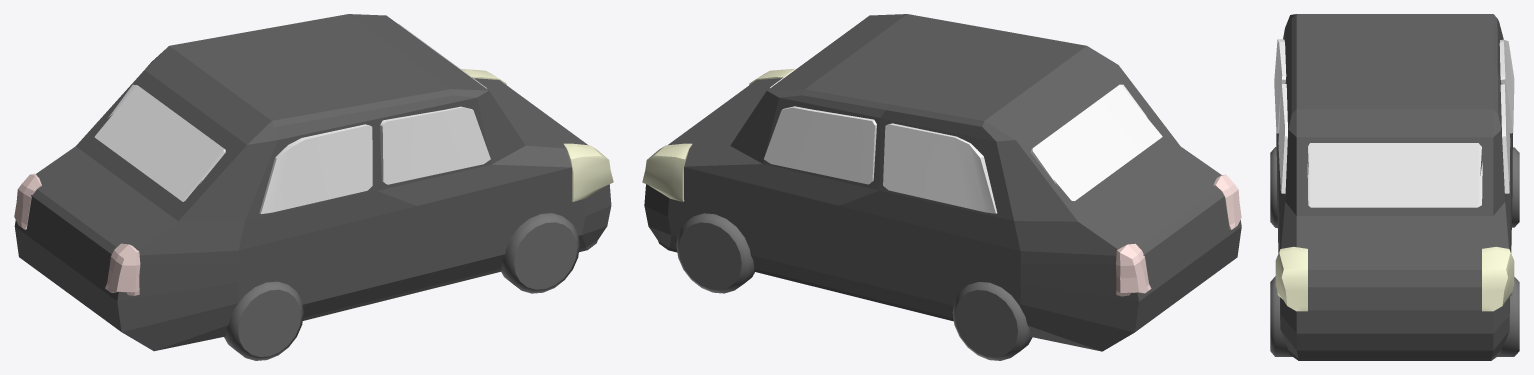
File: CarroNegro.fbx
The picture shows the model from 3 angles, left to right: view 1: azimuth 30°, elevation 25°; view 2: azimuth 150°, elevation 25°; view 3: azimuth 270°, elevation 25°; orthographic projection. The views are drawn at different scales.
Visible parts, largest first — view 1: pCube1, pCube10, pCube7, pCube8, pCylinder1, pCylinder2, pCube11, pCube9; view 2: pCube1, pCube10, pCube4, pCube3, pCylinder3, pCylinder4, pCube11, pCube9; view 3: pCube1, pCube6, pCube9, pCube4, pCylinder1, pCylinder3, pCube8, pCube3, pCube7, pCylinder4, pCylinder2.
Boxes of the visible parts, <box> form: pCube1: <box>14,14,611,351</box>; pCube10: <box>94,84,225,201</box>; pCube7: <box>259,124,372,213</box>; pCube8: <box>380,106,490,184</box>; pCylinder1: <box>501,213,579,293</box>; pCylinder2: <box>224,281,303,360</box>; pCube11: <box>14,173,140,295</box>; pCube9: <box>461,69,613,201</box>; pCube1: <box>644,14,1241,351</box>; pCube10: <box>1030,84,1162,201</box>; pCube4: <box>883,123,997,213</box>; pCube3: <box>764,106,876,184</box>; pCylinder3: <box>676,213,754,293</box>; pCylinder4: <box>952,282,1032,360</box>; pCube11: <box>1116,174,1241,296</box>; pCube9: <box>642,68,794,201</box>; pCube1: <box>1276,14,1512,360</box>; pCube6: <box>1307,143,1482,207</box>; pCube9: <box>1275,246,1514,311</box>; pCube4: <box>1499,39,1514,133</box>; pCylinder1: <box>1270,276,1292,356</box>; pCylinder3: <box>1497,277,1519,356</box>; pCube8: <box>1278,84,1287,193</box>; pCube3: <box>1500,84,1510,193</box>; pCube7: <box>1274,39,1286,133</box>; pCylinder4: <box>1512,147,1519,227</box>; pCylinder2: <box>1270,147,1277,227</box>.
Bounding box in the file's own units: 24.41 × 10.7 × 11.09.
